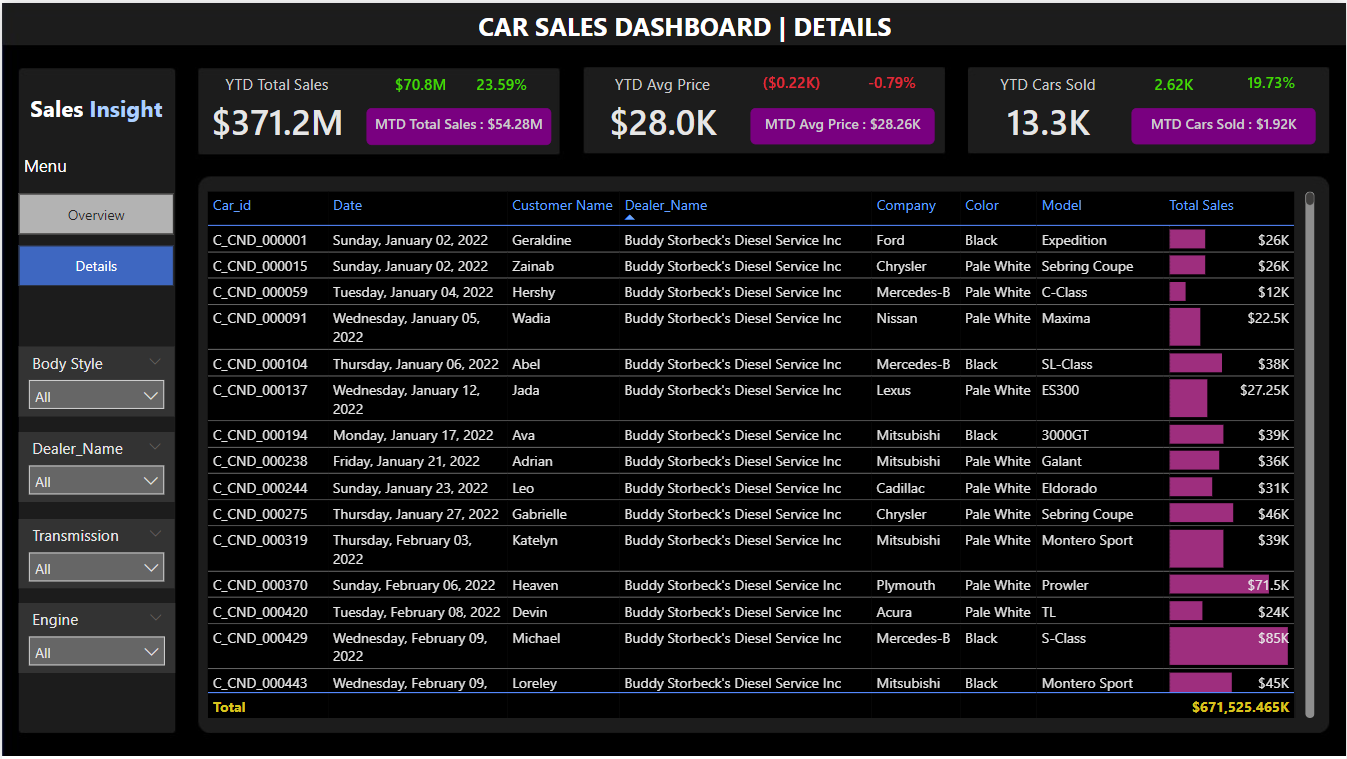

Layout of this report page (visuals, bound fields, positions):
{"tool":"powerbi","page":{"name":"Details","canvas":[1280,720],"ordinal":1},"visuals":[{"type":"card","title":"YTD Total Sales","fields":{"Values":["car_data.YTD Total Sales"]},"box":[177.2,66.6,169.6,71.2],"z":0},{"type":"card","fields":{"Values":["car_data.Sales Difference"]},"box":[360.5,61.6,77,34.8],"z":1000},{"type":"card","fields":{"Values":["car_data.YoY Sales Growth"]},"box":[437.5,61.6,77,34.8],"z":2000},{"type":"card","fields":{"Values":["car_data.MTD KPI"]},"box":[346.8,99.9,176,35],"z":3000},{"type":"card","title":"YTD Avg Price","fields":{"Values":["car_data.YTD Avg Price"]},"box":[543.6,66.6,169.6,71.2],"z":4000},{"type":"card","fields":{"Values":["car_data.Avg Price Diff"]},"box":[713.2,60.6,77.2,34.8],"z":5000},{"type":"card","fields":{"Values":["car_data.YoY Avg Price Growth"]},"box":[808.6,60.6,77.2,34.8],"z":6000},{"type":"card","fields":{"Values":["car_data.MTD Avg Price RPI"]},"box":[713.2,99.9,175.6,34.8],"z":7000},{"type":"card","title":"YTD Cars Sold","fields":{"Values":["car_data.YTD Cars Sold"]},"box":[911.6,66.6,169.6,71.2],"z":8000},{"type":"card","fields":{"Values":["car_data.Cars Sold Diff"]},"box":[1076.6,62.1,77.2,34.8],"z":9000},{"type":"card","fields":{"Values":["car_data.YoY Car Sold Growth"]},"box":[1170.5,60.6,77.2,34.8],"z":10000},{"type":"card","fields":{"Values":["car_data.MTD Cars Sold KPI"]},"box":[1075.1,99.9,175.6,34.8],"z":11000},{"type":"textbox","box":[448.6,0,487.1,42.9],"z":12000},{"type":"slicer","fields":{"Values":["car_data.Body Style"]},"box":[15.1,327.1,148.4,66.6],"z":13000},{"type":"slicer","fields":{"Values":["car_data.Dealer_Name"]},"box":[15.1,408.8,148.4,66.6],"z":14000},{"type":"slicer","fields":{"Values":["car_data.Transmission"]},"box":[15,491.2,148.8,66.2],"z":15000},{"type":"slicer","fields":{"Values":["car_data.Engine"]},"box":[15.5,570.9,149.1,66.4],"z":16000},{"type":"tableEx","fields":{"Values":["car_data.Car_id","car_data.Date","car_data.Customer Name","car_data.Dealer_Name","car_data.Company","car_data.Color","car_data.Model","car_data.Price ($)"]},"box":[190,175,1065,511.7],"z":17000},{"type":"textbox","box":[15,80,148.3,43.3],"z":18000},{"type":"textbox","box":[15,138.3,148.3,43.3],"z":19000},{"type":"pageNavigator","box":[15,181.7,148.3,88.3],"z":20000}]}

Visuals, with their boxes in screenshot pixels (x1, y1, x2, y2), scaled from the page's 1280x720 canvas onto the 1347x759 screenshot:
"YTD Total Sales" card: (186,70,365,145)
card - car_data.Sales Difference: (379,65,460,102)
card - car_data.YoY Sales Growth: (460,65,541,102)
card - car_data.MTD KPI: (365,105,550,142)
"YTD Avg Price" card: (572,70,751,145)
card - car_data.Avg Price Diff: (751,64,832,101)
card - car_data.YoY Avg Price Growth: (851,64,932,101)
card - car_data.MTD Avg Price RPI: (751,105,935,142)
"YTD Cars Sold" card: (959,70,1138,145)
card - car_data.Cars Sold Diff: (1133,65,1214,102)
card - car_data.YoY Car Sold Growth: (1232,64,1313,101)
card - car_data.MTD Cars Sold KPI: (1131,105,1316,142)
textbox: (472,0,985,45)
slicer - car_data.Body Style: (16,345,172,415)
slicer - car_data.Dealer_Name: (16,431,172,501)
slicer - car_data.Transmission: (16,518,172,588)
slicer - car_data.Engine: (16,602,173,672)
tableEx - car_data.Car_id x car_data.Date: (200,184,1321,724)
textbox: (16,84,172,130)
textbox: (16,146,172,191)
pageNavigator: (16,192,172,285)
